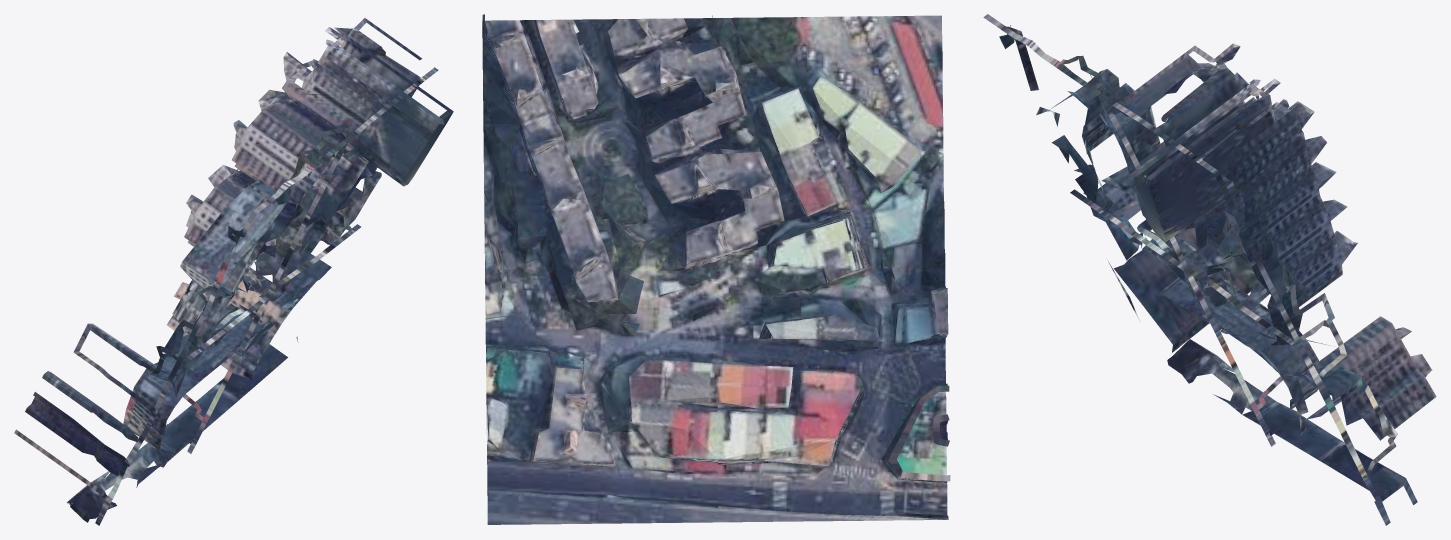
3 views of the same model, side by side, from view 1: azimuth 30°, elevation 25°; view 2: azimuth 150°, elevation 25°; view 3: azimuth 270°, elevation 25° (orthographic). The views are drawn at different scales.
Bounding box in the file's own units: 170 × 156 × 143.
2 materials, 2 textured.
